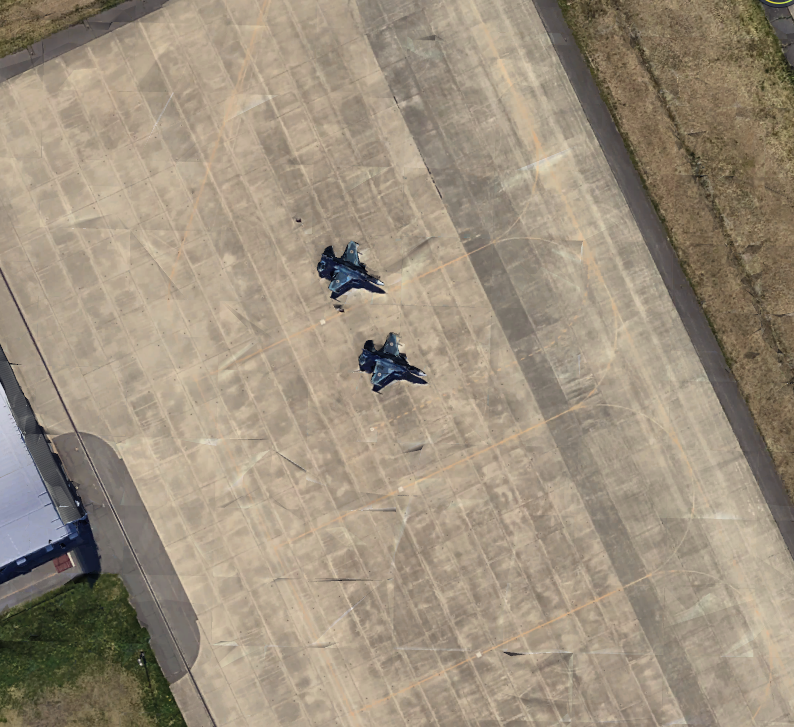A5: (317, 232, 390, 308), (357, 323, 430, 399)
